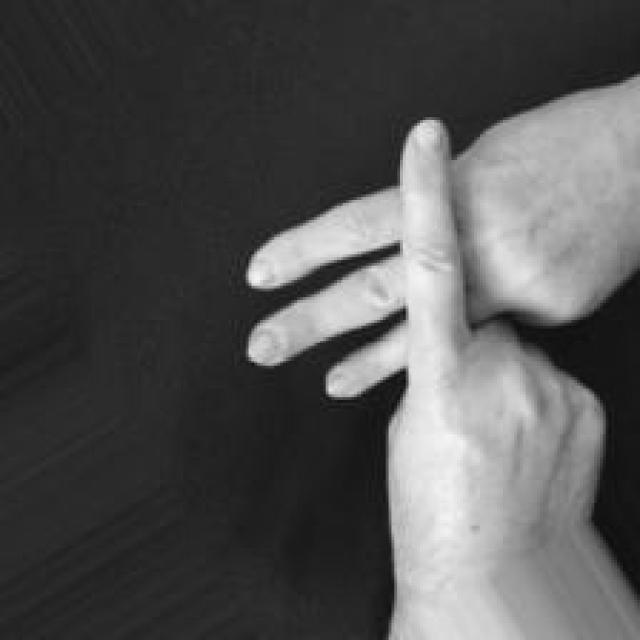E: (243, 99, 640, 527)
